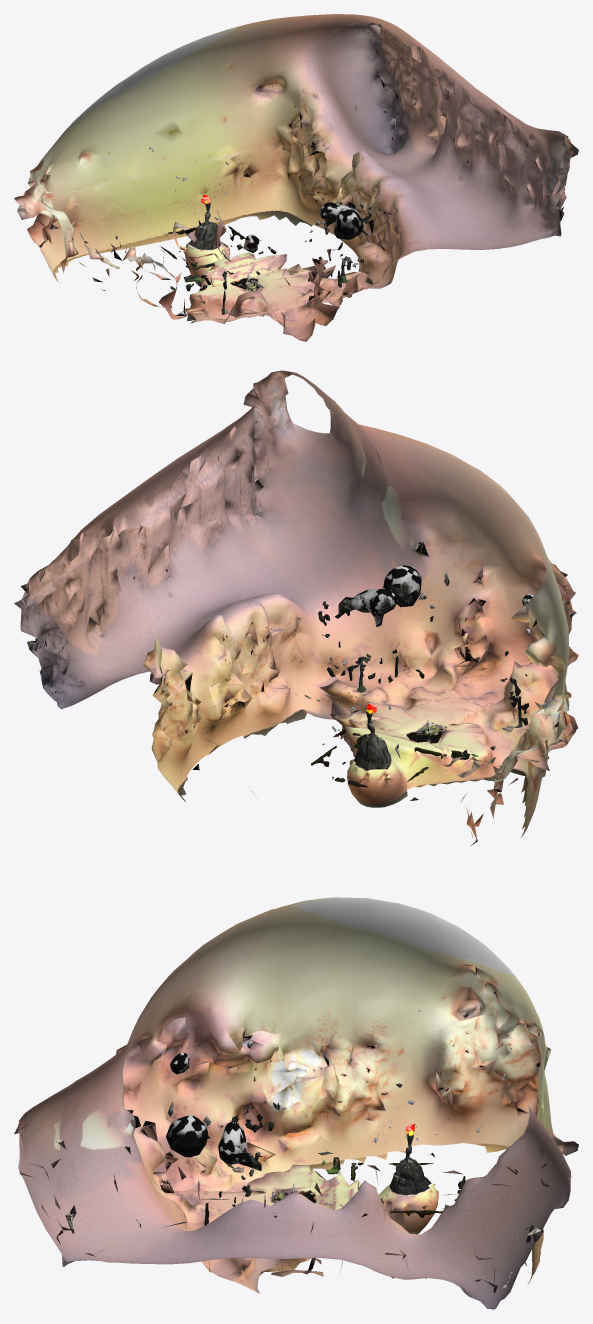
File: skver_hi_edit.gltf
The picture shows the model from 3 angles, top to bottom: view 1: azimuth 30°, elevation 25°; view 2: azimuth 150°, elevation 25°; view 3: azimuth 270°, elevation 25°; orthographic projection. The views are drawn at different scales.
Parts seen in each view (by area): view 1: cave.lo_uv, bobbles_uv, hand.lo_uv; view 2: cave.lo_uv, bobbles_uv, hand.lo_uv; view 3: cave.lo_uv, bobbles_uv, hand.lo_uv.
Boxes of the visible parts, left/top/right/bottom form: cave.lo_uv: left=14, top=14, right=578, bottom=341; bobbles_uv: left=115, top=147, right=371, bottom=314; hand.lo_uv: left=189, top=195, right=220, bottom=249; cave.lo_uv: left=14, top=370, right=578, bottom=845; bobbles_uv: left=304, top=565, right=533, bottom=787; hand.lo_uv: left=354, top=704, right=391, bottom=770; cave.lo_uv: left=14, top=897, right=578, bottom=1309; bobbles_uv: left=166, top=1010, right=505, bottom=1265; hand.lo_uv: left=389, top=1124, right=431, bottom=1195.
Size of the model in its own units: 86.96 by 47.68 by 79.88.
Materials: 4 (3 with a texture image).
